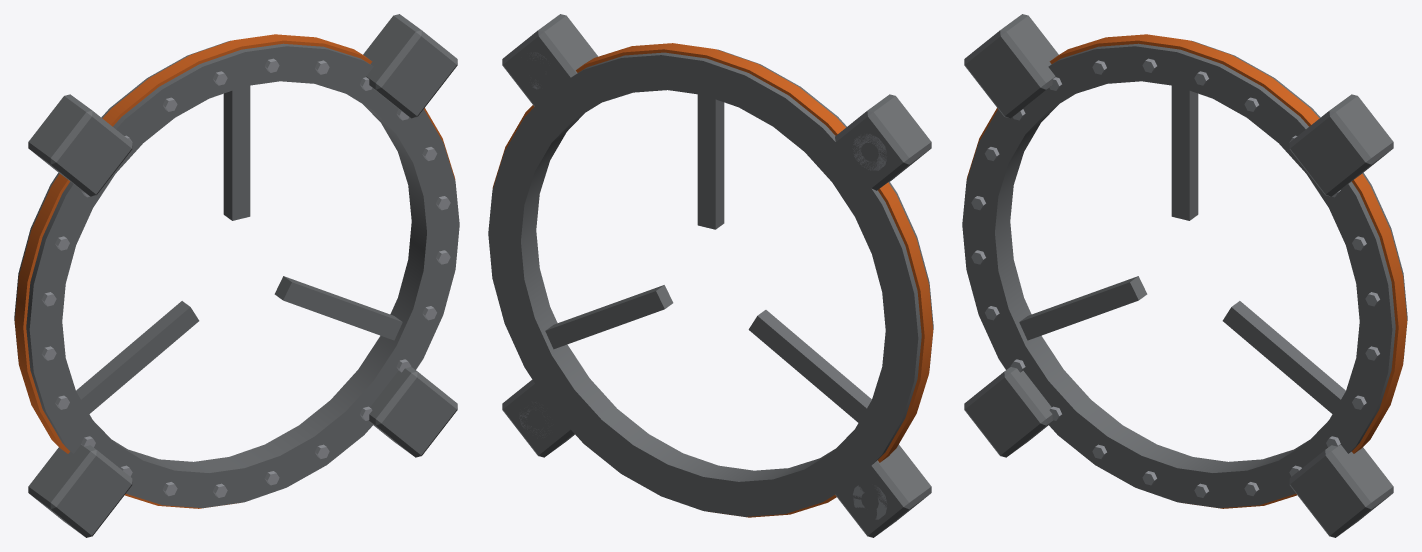
Rendered from u33_flange.obj.
3 views of the same model, side by side, from view 1: azimuth 30°, elevation 25°; view 2: azimuth 150°, elevation 25°; view 3: azimuth 330°, elevation 25° (orthographic).
Visible parts, largest first — view 1: u33_flange; view 2: u33_flange; view 3: u33_flange.
Boxes of the visible parts, left/top/right/bottom form: u33_flange: left=14, top=14, right=459, bottom=537; u33_flange: left=488, top=14, right=933, bottom=537; u33_flange: left=962, top=14, right=1407, bottom=537.
Bounding box in the file's own units: 2.94 × 2.94 × 0.32.
